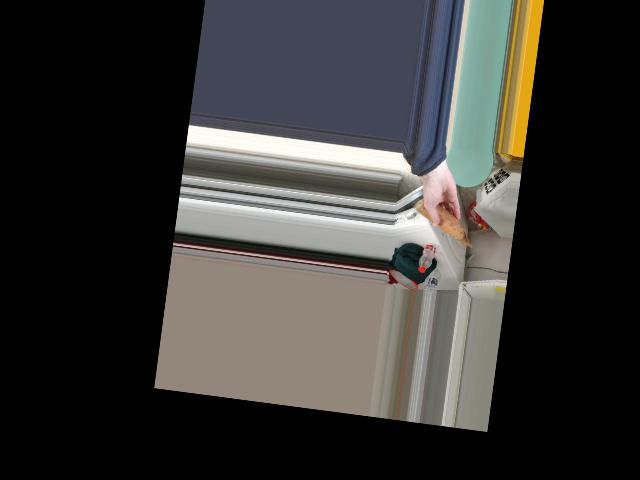sweet_potato: (425, 204, 462, 241)
